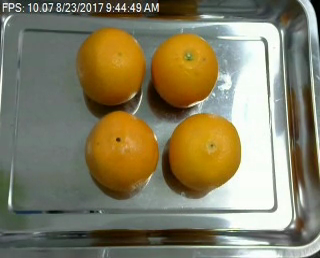Orange: (85, 109, 160, 193), (169, 112, 243, 191), (76, 28, 146, 106), (149, 33, 218, 107)
